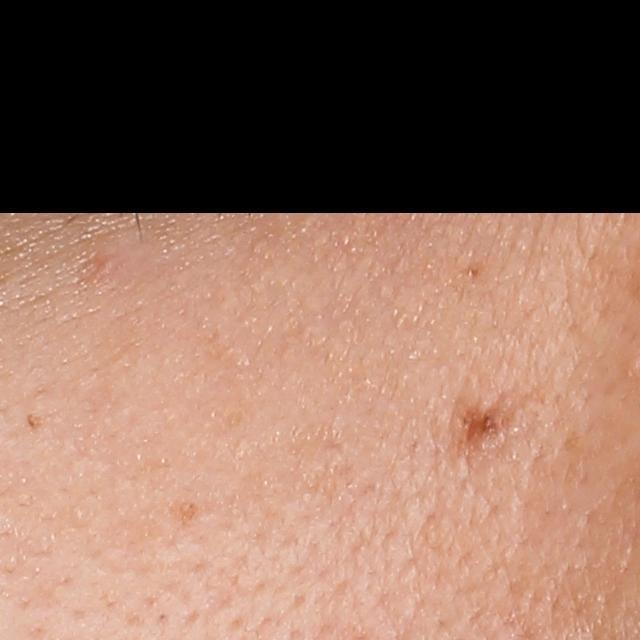nevus: (459, 405, 515, 454)
